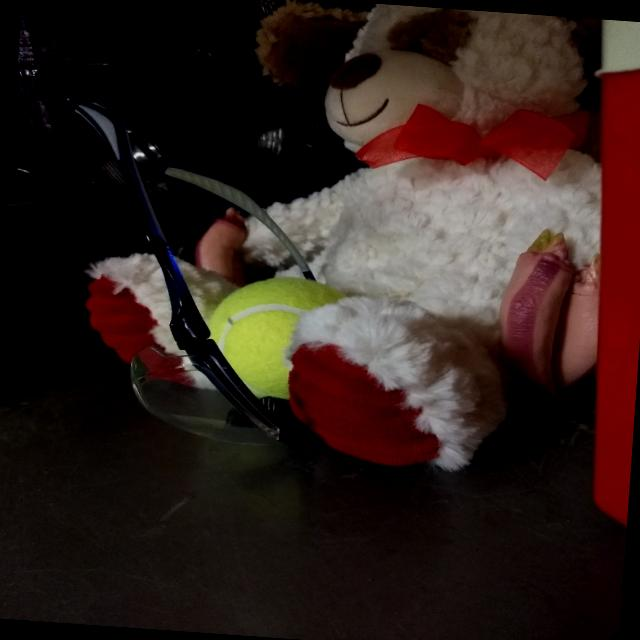tennis-ball: (204, 272, 336, 406)
